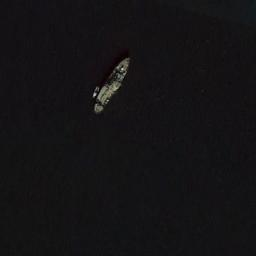boat: (91, 53, 137, 117), (89, 84, 102, 102)
